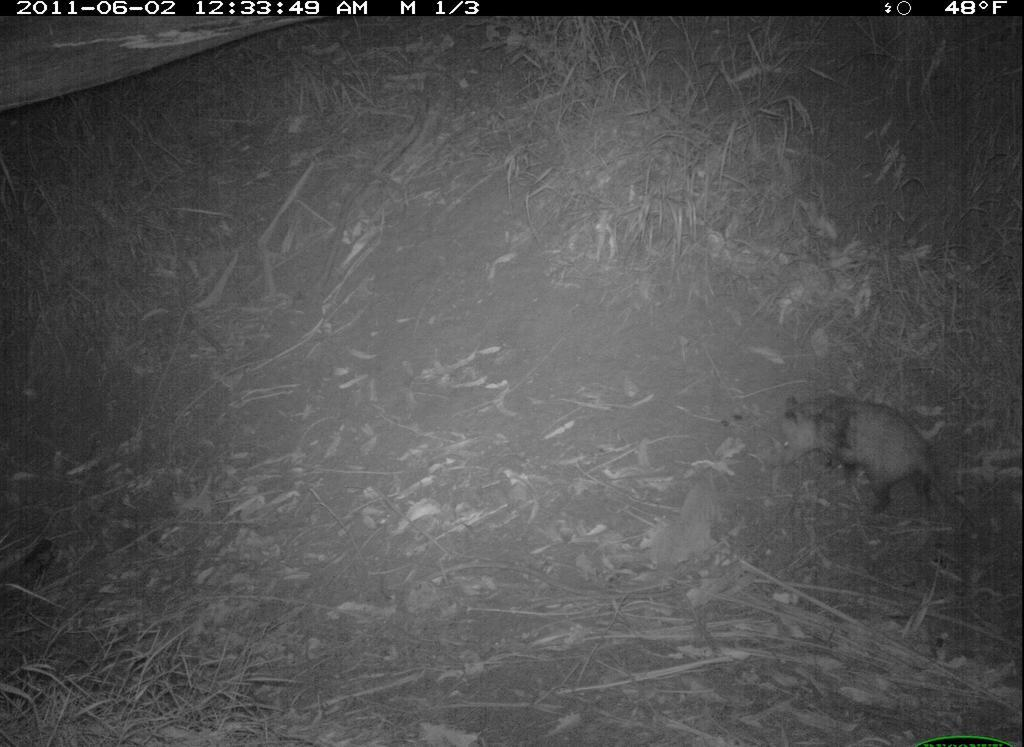opossum: (774, 391, 986, 535)
